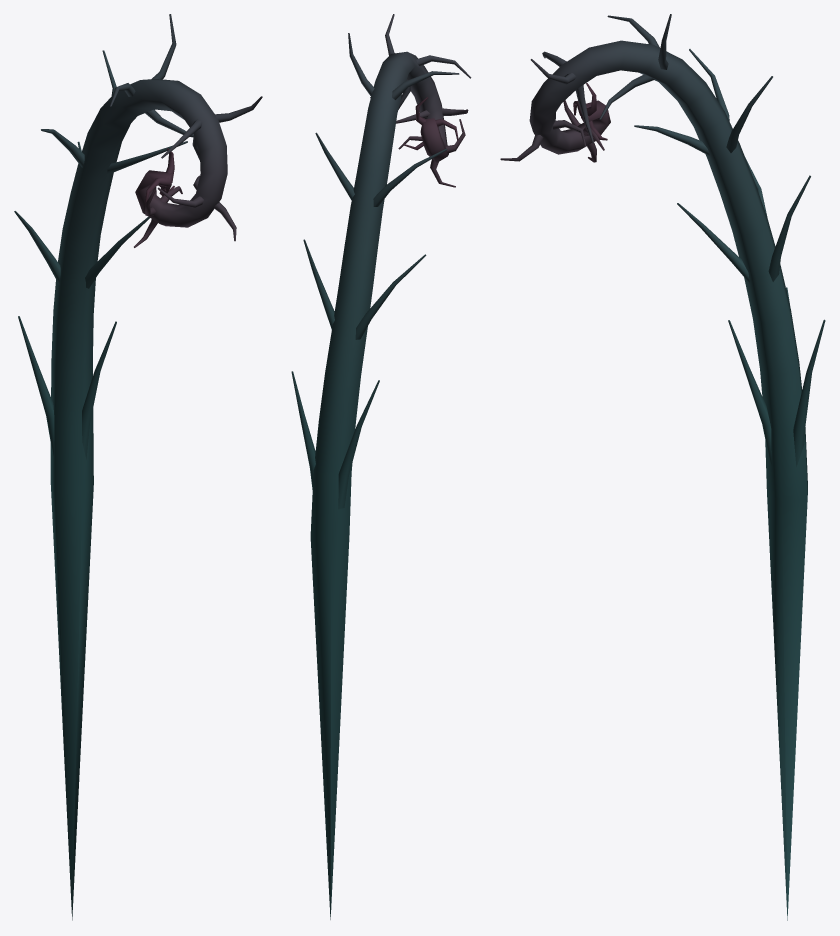
The model's file is plants-bushes-twigs-thorny-tendril_v2.glb.
3 renders of one model, left to right at view 1: azimuth 30°, elevation 25°; view 2: azimuth 150°, elevation 25°; view 3: azimuth 270°, elevation 25°, orthographic. The views are drawn at different scales.
Visible parts, largest first — view 1: Thorny Tendril_v2; view 2: Thorny Tendril_v2; view 3: Thorny Tendril_v2.
Boxes of the visible parts, x1,y1,x2,y2 form: Thorny Tendril_v2: (14,14,262,920); Thorny Tendril_v2: (291,14,471,919); Thorny Tendril_v2: (500,14,825,920).
Size of the model in its own units: 0.0792 by 0.5 by 0.159.
